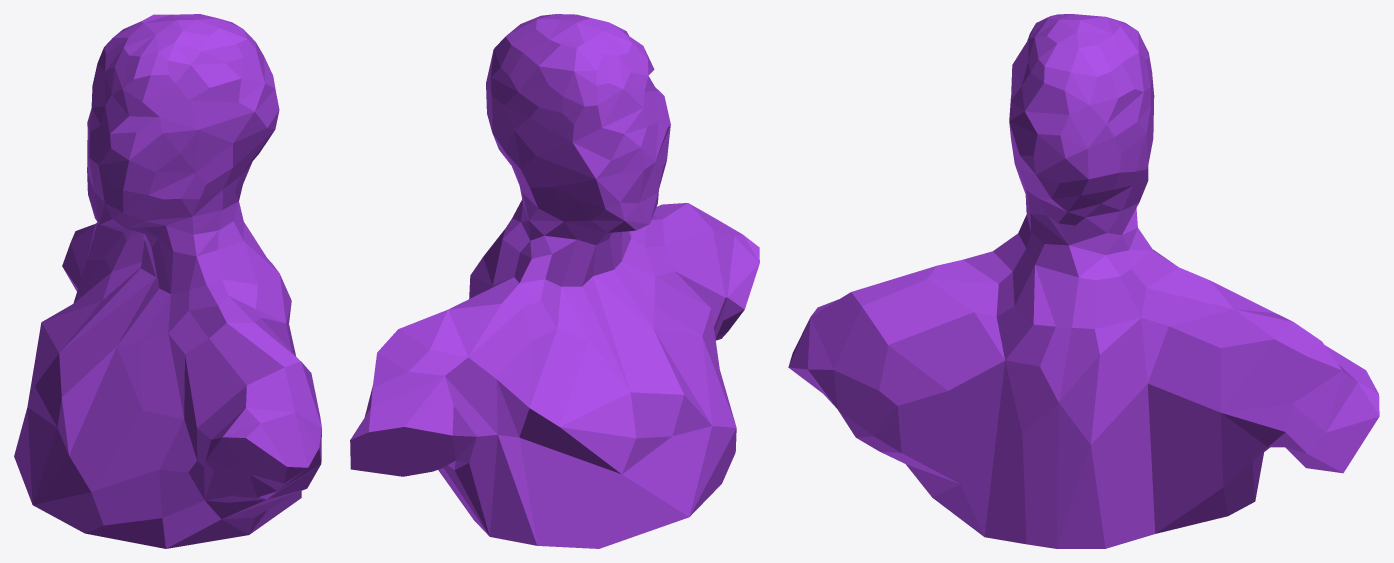
File: Statue.008.fbx
3 views of the same model, side by side, from view 1: azimuth 30°, elevation 25°; view 2: azimuth 150°, elevation 25°; view 3: azimuth 270°, elevation 25° (orthographic). The views are drawn at different scales.
Parts seen in each view (by area): view 1: Statue.008; view 2: Statue.008; view 3: Statue.008.
Part boxes in pixels (bbox=[...]): Statue.008: bbox=[14, 14, 321, 548]; Statue.008: bbox=[350, 14, 759, 548]; Statue.008: bbox=[788, 14, 1379, 548].
Size of the model in its own units: 187 by 343 by 383.
